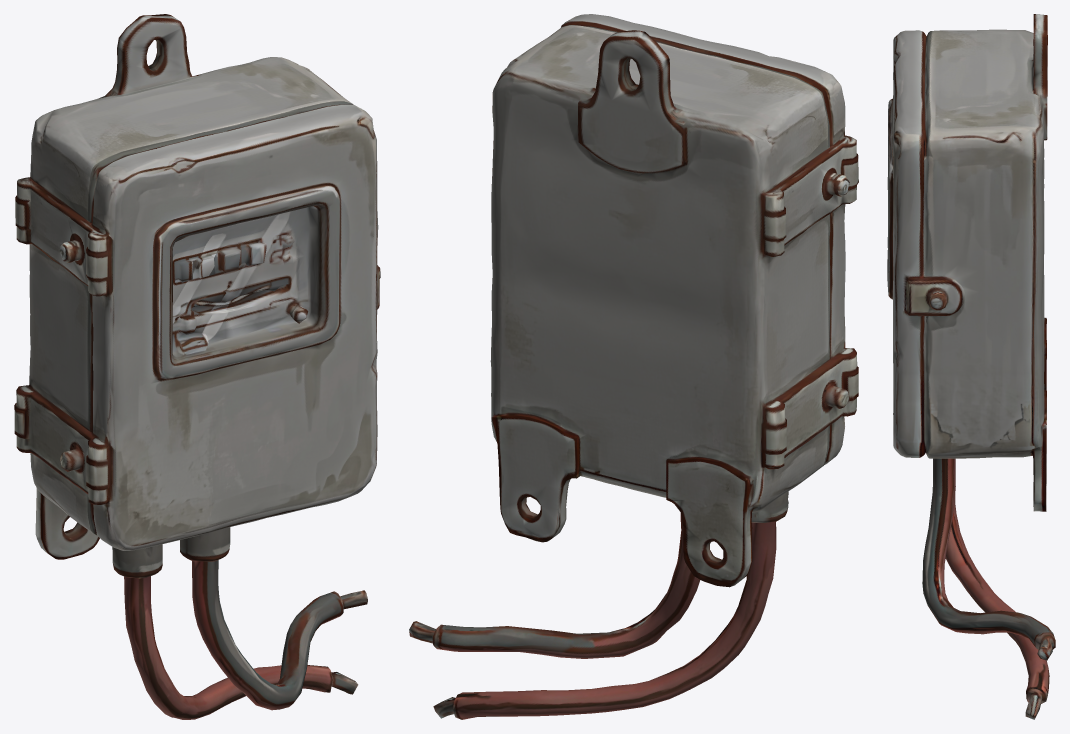
The model's file is kit_meter_box.glb.
3 renders of one model, left to right at view 1: azimuth 30°, elevation 25°; view 2: azimuth 150°, elevation 25°; view 3: azimuth 270°, elevation 25°, orthographic. The views are drawn at different scales.
Visible parts, largest first — view 1: tripo_node_7cde0186-7bd5-47f3-b20b-99d4bacf42e6; view 2: tripo_node_7cde0186-7bd5-47f3-b20b-99d4bacf42e6; view 3: tripo_node_7cde0186-7bd5-47f3-b20b-99d4bacf42e6.
Part boxes in pixels (<box>): tripo_node_7cde0186-7bd5-47f3-b20b-99d4bacf42e6: <box>14,14,380,719</box>; tripo_node_7cde0186-7bd5-47f3-b20b-99d4bacf42e6: <box>409,14,858,719</box>; tripo_node_7cde0186-7bd5-47f3-b20b-99d4bacf42e6: <box>887,14,1055,719</box>.
Size of the model in its own units: 0.5282 by 1 by 0.2456.
Materials: 1 (1 with a texture image).
